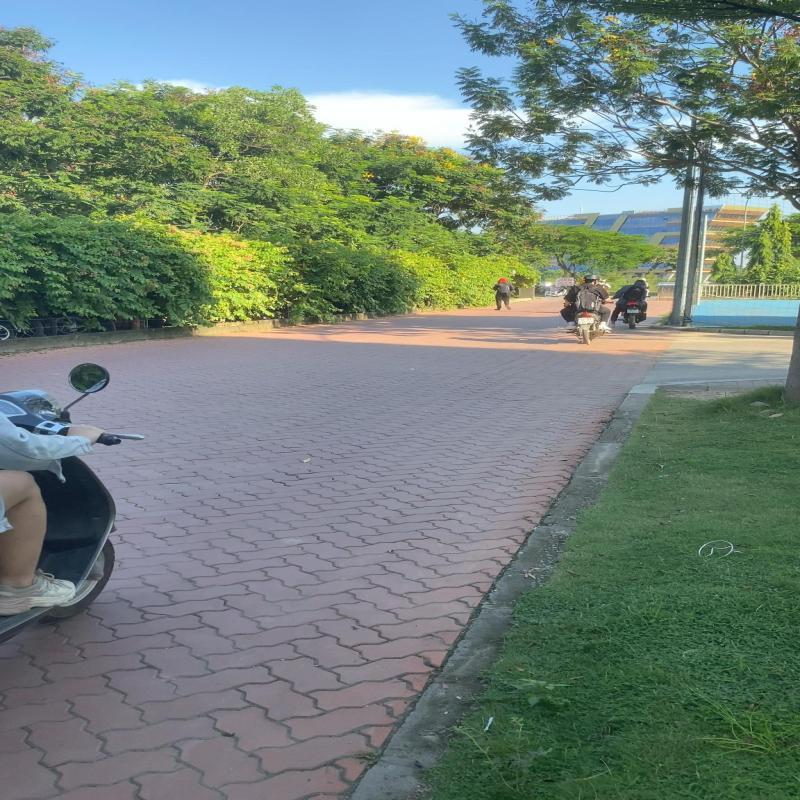helmet: (582, 274, 601, 284)
licenseplate: (578, 318, 594, 326)
motorcyclist: (558, 274, 616, 346)
